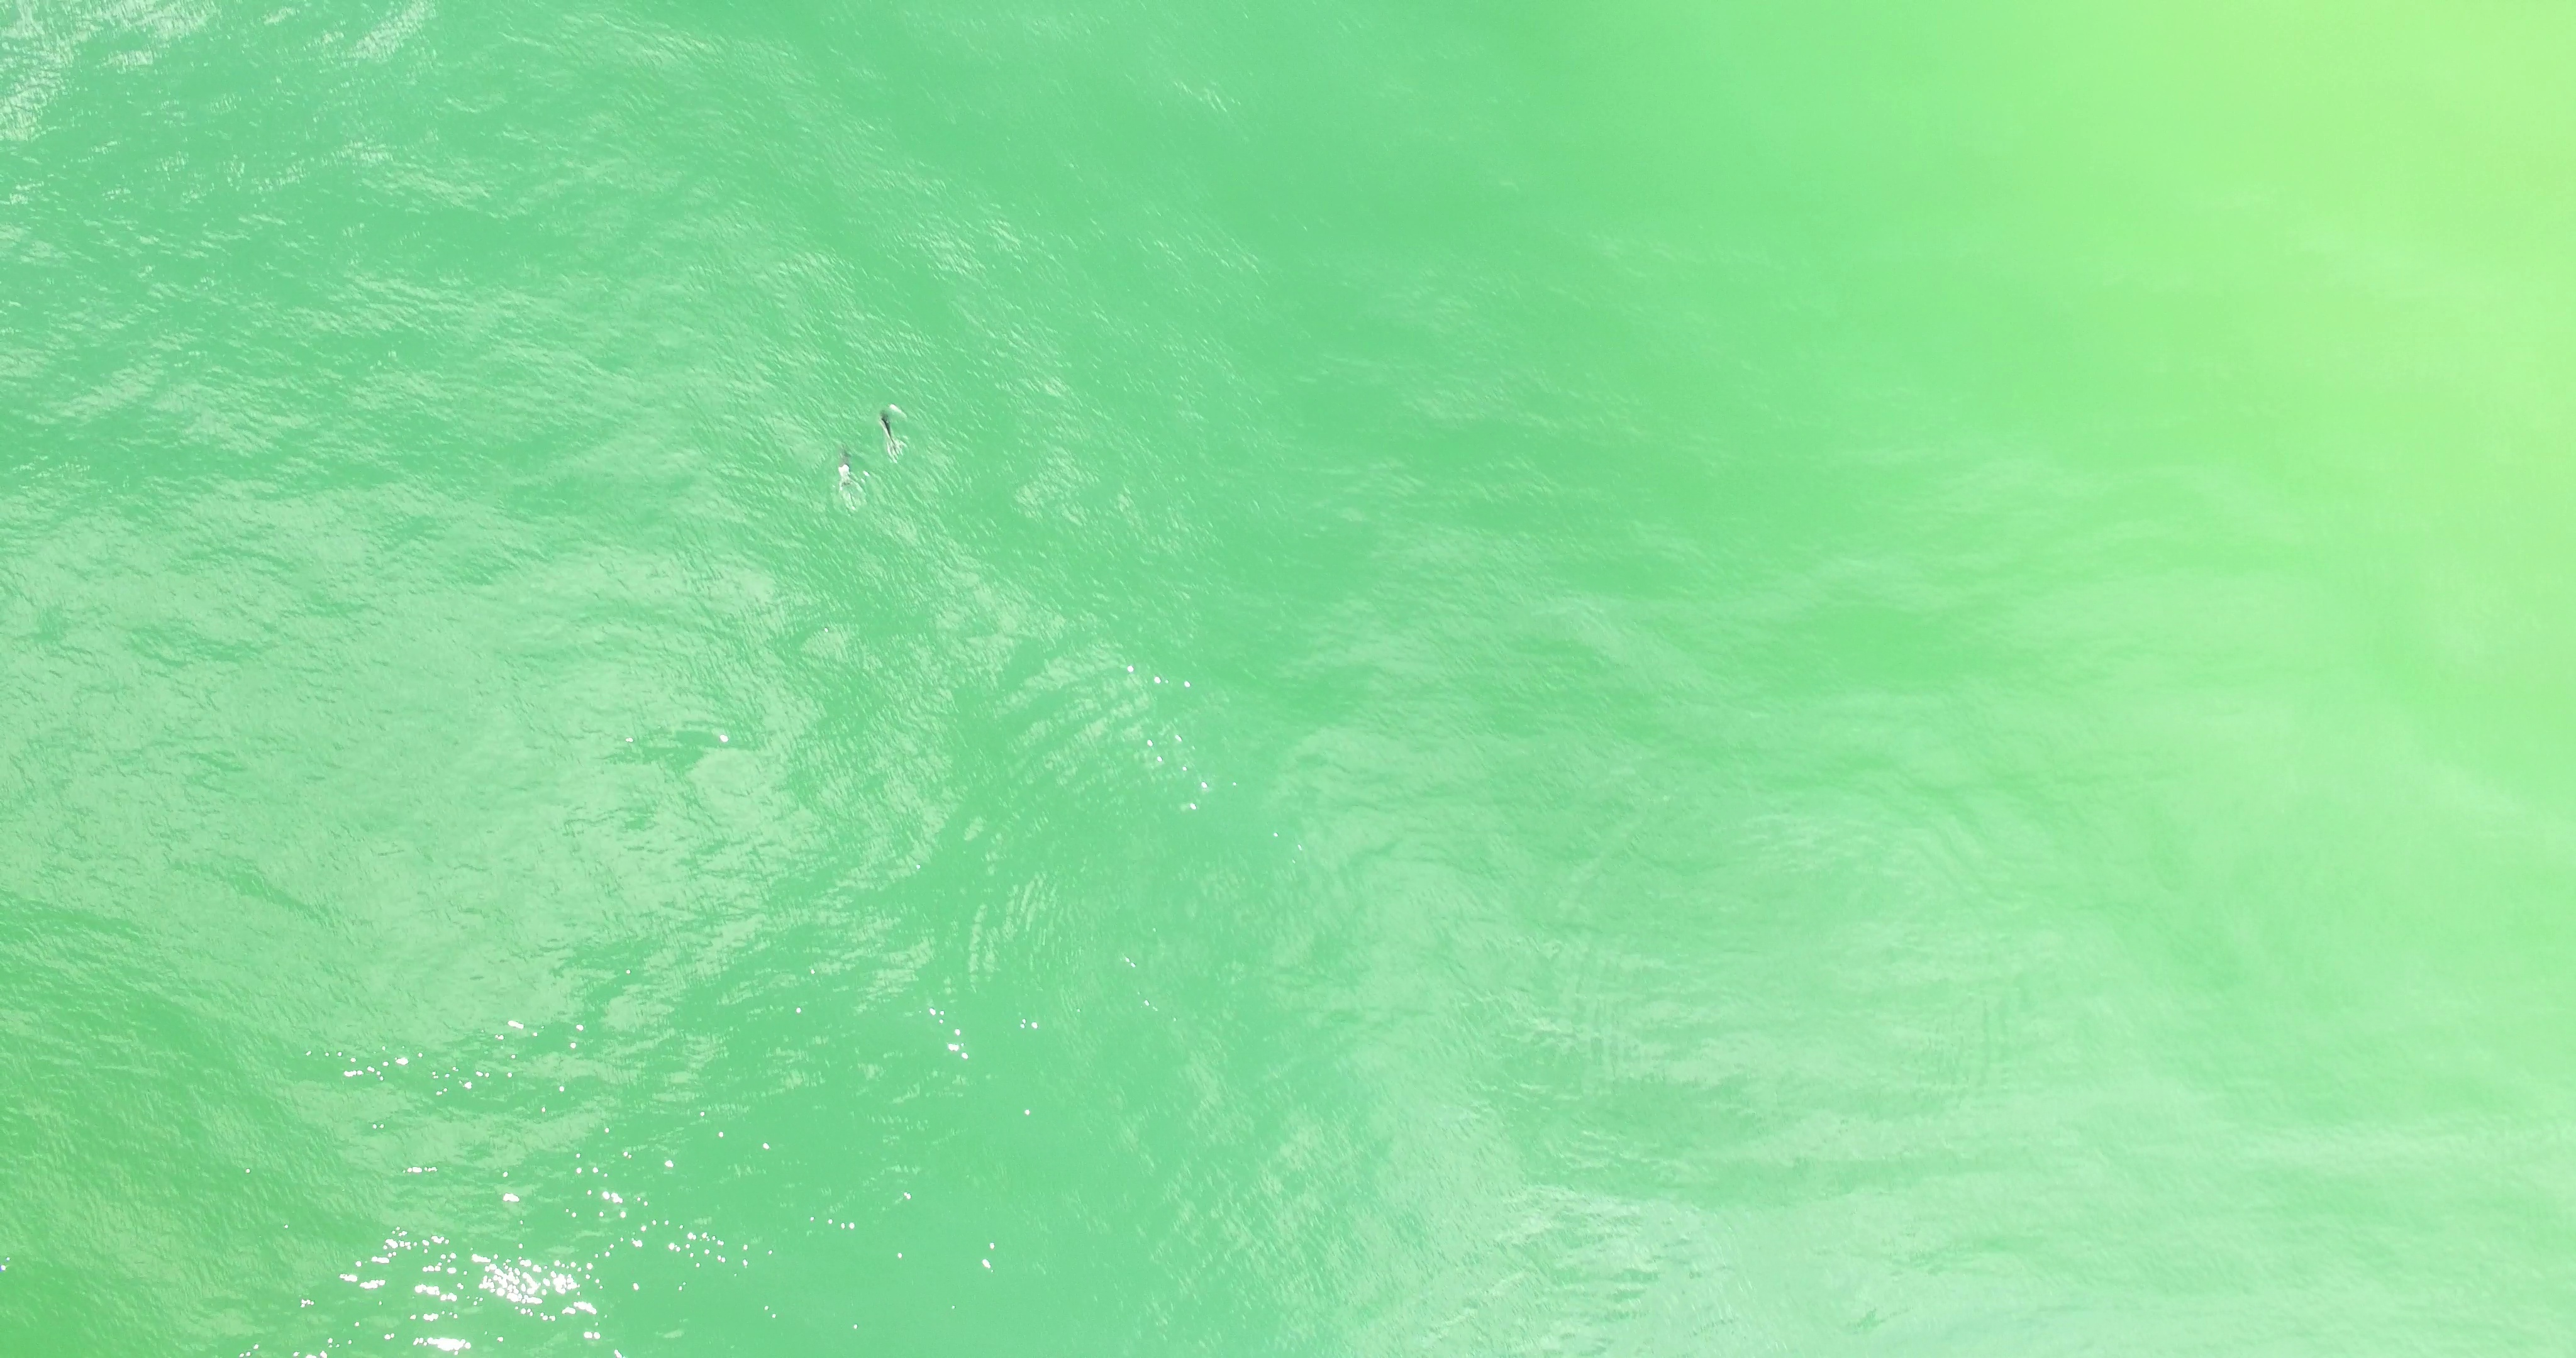dolphin: (871, 407, 906, 458), (837, 441, 857, 508)
